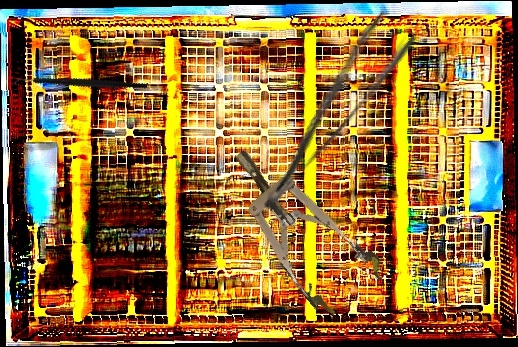Chopper: (10, 34, 149, 137)
Dressing Forceps: (232, 9, 421, 214)
Speculum: (208, 126, 391, 324)
